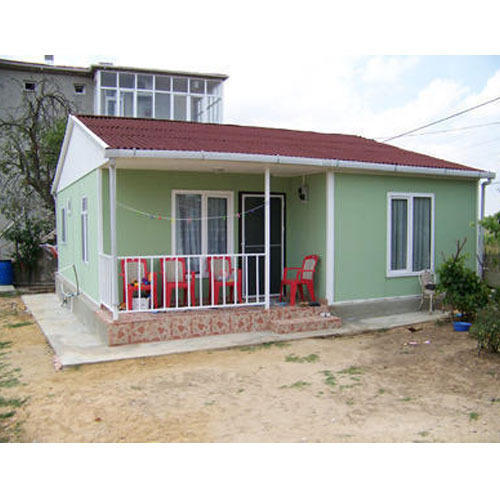Tin-shade House: (51, 98, 499, 337)
